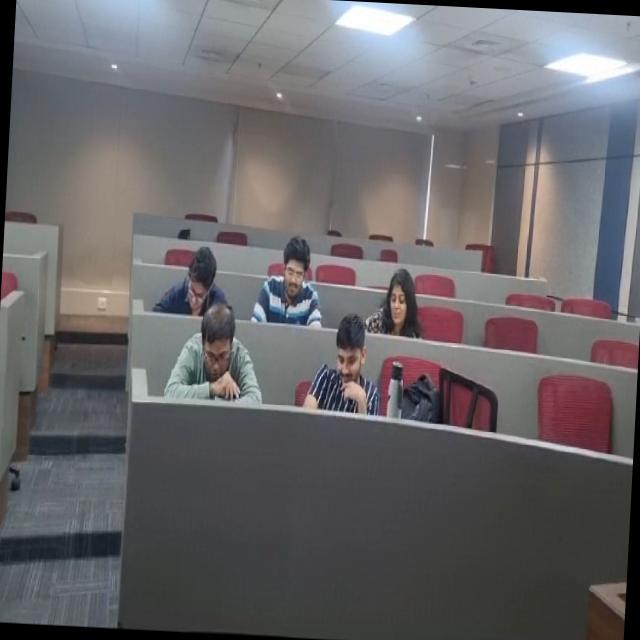non-cheating: (166, 290, 272, 406), (294, 312, 388, 418), (365, 240, 438, 348), (153, 228, 235, 317), (252, 234, 326, 326)
